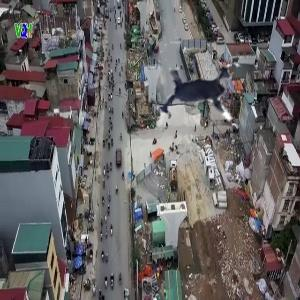drone: (141, 37, 261, 157)
